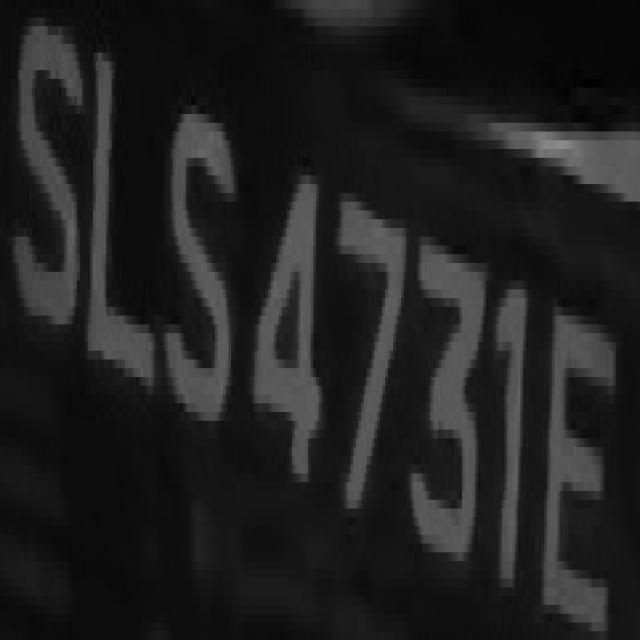1: (491, 246, 531, 632)
3: (409, 193, 483, 579)
4: (236, 123, 327, 491)
7: (332, 166, 409, 534)
E: (2, 4, 3, 9)
L: (80, 18, 159, 412)
S: (162, 97, 239, 430), (11, 18, 90, 333)
